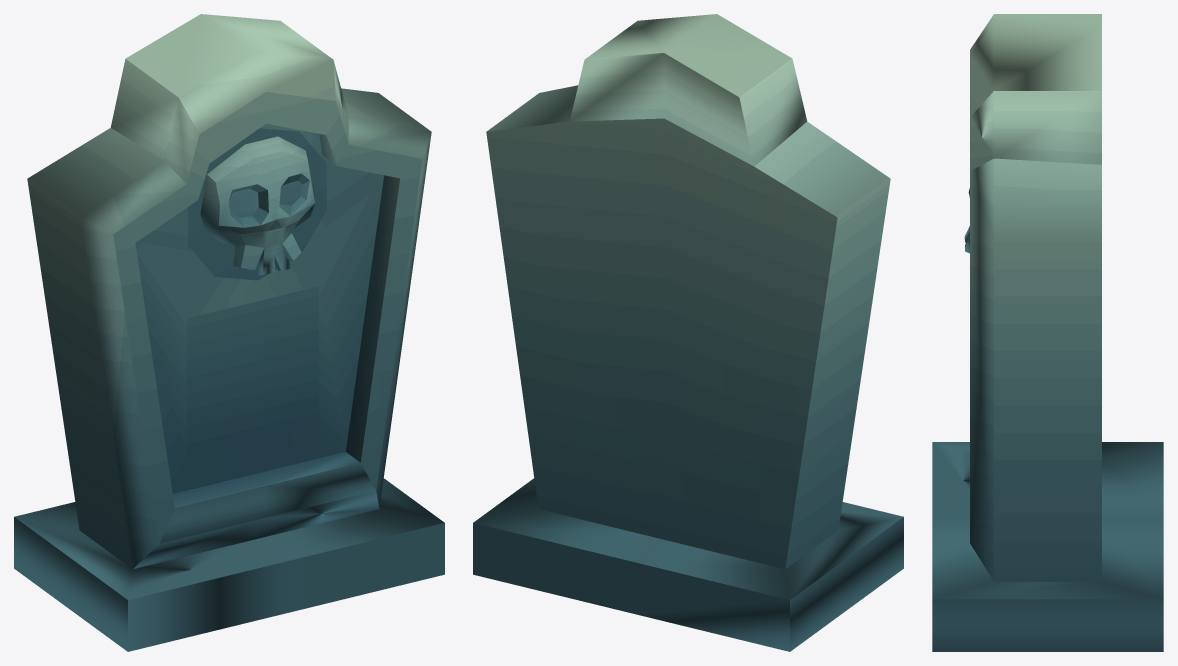
Rendered from Gravestone_Skull.fbx.
3 renders of one model, left to right at view 1: azimuth 30°, elevation 25°; view 2: azimuth 150°, elevation 25°; view 3: azimuth 270°, elevation 25°, orthographic.
Visible parts, largest first — view 1: pCube4; view 2: pCube4; view 3: pCube4.
Boxes of the visible parts, left/top/right/bottom form: pCube4: left=14, top=14, right=444, bottom=651; pCube4: left=473, top=14, right=903, bottom=651; pCube4: left=932, top=14, right=1163, bottom=651.
Size of the model in its own units: 3.01 by 4.41 by 1.69.
